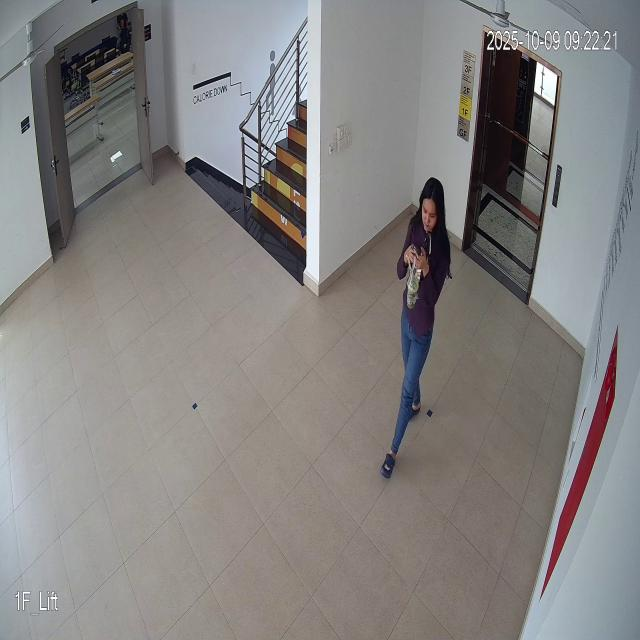face: (420, 170, 444, 241)
